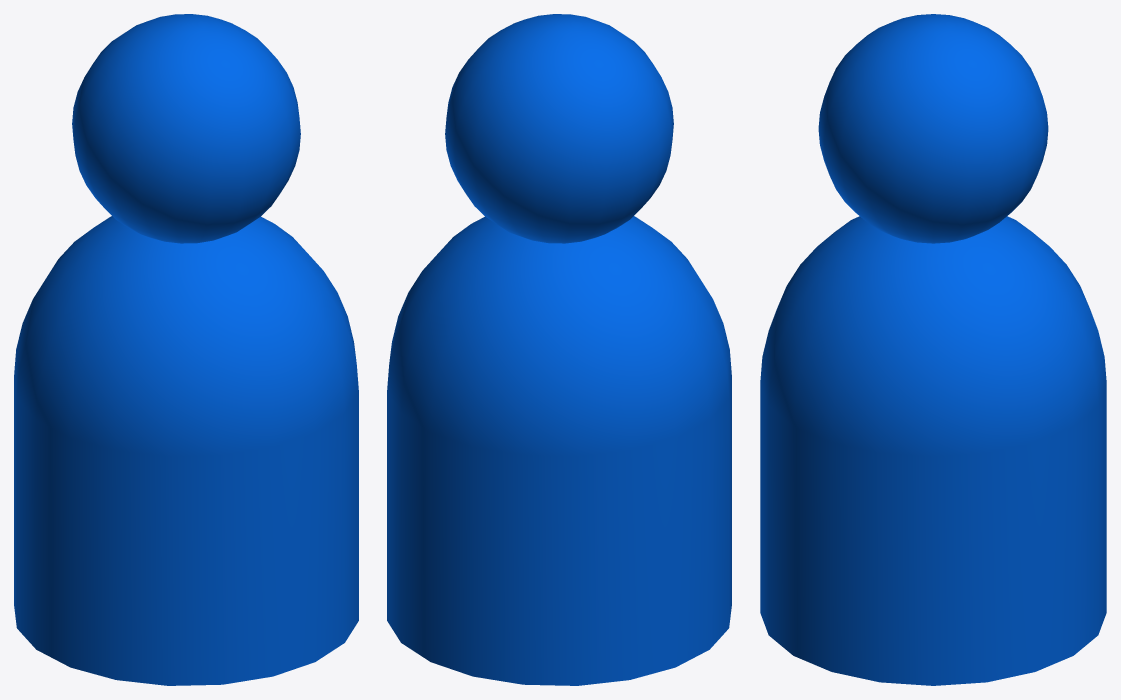
The model's file is lvl3_statue.fbx.
The picture shows the model from 3 angles, left to right: view 1: azimuth 30°, elevation 25°; view 2: azimuth 150°, elevation 25°; view 3: azimuth 270°, elevation 25°; orthographic projection.
Parts seen in each view (by area): view 1: pSphere3; view 2: pSphere3; view 3: pSphere3.
Boxes of the visible parts, <box> form: pSphere3: <box>14,14,358,685</box>; pSphere3: <box>387,14,731,685</box>; pSphere3: <box>760,14,1106,685</box>.
Size of the model in its own units: 60.66 by 114 by 60.66.
